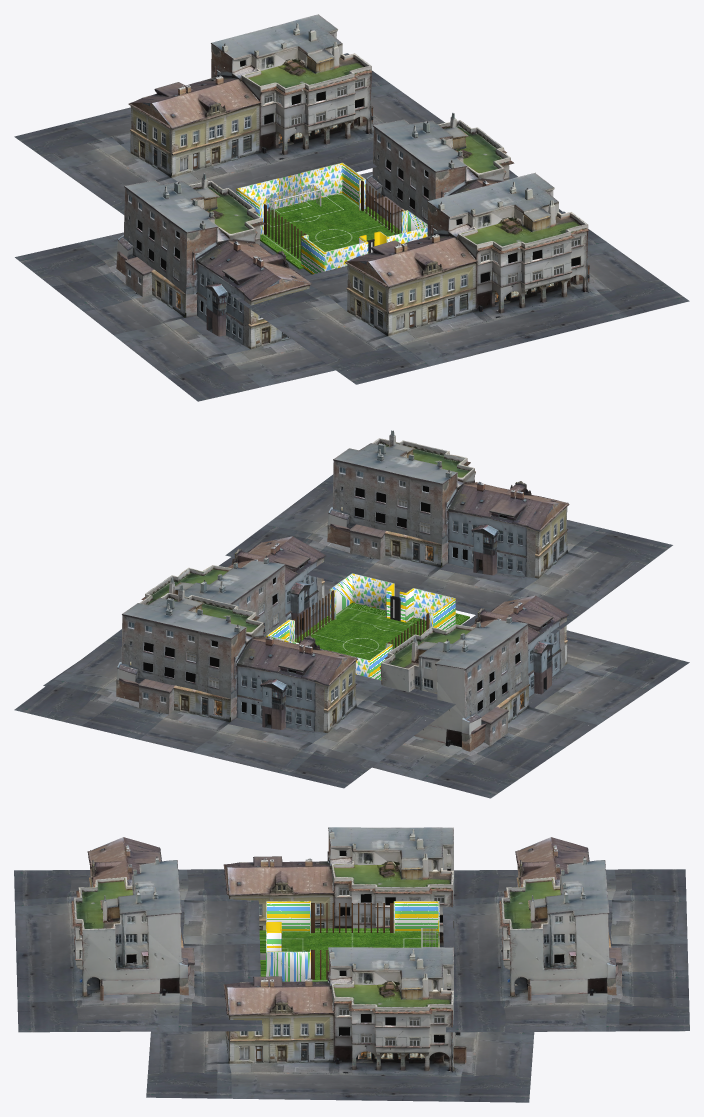
File: A block stadion.glb
3 views of the same model, one above another, from view 1: azimuth 30°, elevation 25°; view 2: azimuth 150°, elevation 25°; view 3: azimuth 270°, elevation 25° (orthographic). The views are drawn at different scales.
Visible parts, largest first — view 1: Buildings, Plane, Box111, Object007.001, ram; view 2: Buildings, Plane, Box111, Object007.001; view 3: Buildings, Plane, Box111, Object007.001.
Part boxes in pixels (x1,y1,x2,y2): Buildings: [14, 14, 689, 401]; Plane: [236, 162, 427, 274]; Box111: [260, 193, 400, 274]; Object007.001: [264, 180, 403, 260]; ram: [266, 184, 374, 253]; Buildings: [14, 430, 689, 798]; Plane: [266, 573, 455, 680]; Box111: [295, 602, 469, 660]; Object007.001: [293, 590, 429, 649]; Buildings: [14, 827, 689, 1102]; Plane: [266, 901, 439, 981]; Box111: [259, 928, 438, 981]; Object007.001: [311, 903, 393, 979].
Bounding box in the file's own units: 74.3 × 21.5 × 93.12.
Materials: 9 (9 with a texture image).
